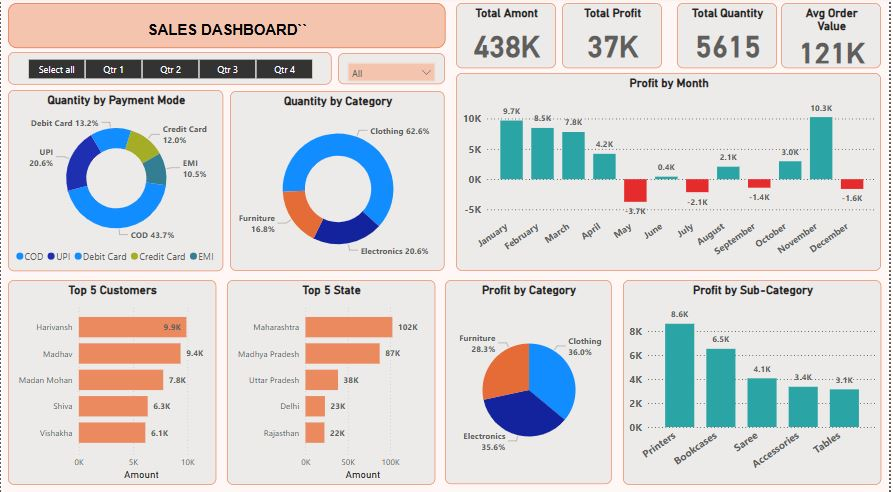

This screenshot's page, from the dashboard's own definition file:
{"tool":"powerbi","page":{"name":"Page 2","canvas":[1280,720],"ordinal":0},"visuals":[{"type":"textbox","box":[9.7,8.1,629.9,65],"z":0},{"type":"columnChart","title":"Profit by Month","fields":{"Category":["Orders (2).Date.Variation.Date Hierarchy.Month"],"Y":["Details (2).Profit"]},"box":[655.8,110.1,612.1,285],"z":1000},{"type":"columnChart","title":"Profit by Sub-Category","fields":{"Category":["Details (2).Sub-Category"],"Y":["Details (2).Profit"]},"box":[895.4,408,372.4,294.7],"z":2000},{"type":"donutChart","title":"Quantity by Category","fields":{"Category":["Details (2).Category"],"Y":["Details (2).Quantity"]},"box":[330.3,136,309.3,259.1],"z":3000},{"type":"donutChart","title":"Quantity by Payment Mode","fields":{"Category":["Details (2).PaymentMode"],"Y":["Details (2).Quantity"]},"box":[9.7,134.4,310,260.7],"z":4000},{"type":"pieChart","title":"Profit by Category","fields":{"Category":["Details (2).Category"],"Y":["Details (2).Profit"]},"box":[639.6,408,240,294],"z":5000},{"type":"barChart","title":"Top 5 Customers","fields":{"Category":["Orders (2).CustomerName"],"Y":["Details (2).Amount"]},"box":[9.7,408,299.6,294.7],"z":6000},{"type":"barChart","title":"Top 5 State","fields":{"Category":["Orders (2).State"],"Y":["Details (2).Amount"]},"box":[325.5,408,299.6,294.7],"z":7000},{"type":"card","title":"Total Amont","fields":{"Values":["Details (2).Amount"]},"box":[655.8,8.1,144,93.9],"z":8000},{"type":"card","title":"Avg Order Value","fields":{"Values":["Details (2).AOV"]},"box":[1123.7,8.1,144.1,93.9],"z":9000},{"type":"card","title":"Total Profit","fields":{"Values":["Details (2).Profit"]},"box":[808,8.1,144,93.9],"z":10000},{"type":"card","title":"Total Quantity","fields":{"Values":["Details (2).Quantity"]},"box":[973.2,8.1,144,93.9],"z":11000},{"type":"slicer","fields":{"Values":["Orders (2).Date.Variation.Date Hierarchy.Quarter"]},"box":[9.7,79.3,466.3,47],"z":12000},{"type":"slicer","fields":{"Values":["Orders (2).State"]},"box":[485.8,81,153.8,45.3],"z":13000}]}

Visuals, with their boxes in screenshot pixels (x1, y1, x2, y2), scaled from the page's 1280x720 canvas onto the 893x492 screenshot:
textbox: 7 6 446 50
"Profit by Month" columnChart: 458 75 885 270
"Profit by Sub-Category" columnChart: 625 279 884 480
"Quantity by Category" donutChart: 230 93 446 270
"Quantity by Payment Mode" donutChart: 7 92 223 270
"Profit by Category" pieChart: 446 279 614 480
"Top 5 Customers" barChart: 7 279 216 480
"Top 5 State" barChart: 227 279 436 480
"Total Amont" card: 458 6 558 70
"Avg Order Value" card: 784 6 884 70
"Total Profit" card: 564 6 664 70
"Total Quantity" card: 679 6 779 70
slicer - Orders (2).Date.Variation.Date Hierarchy.Quarter: 7 54 332 86
slicer - Orders (2).State: 339 55 446 86
